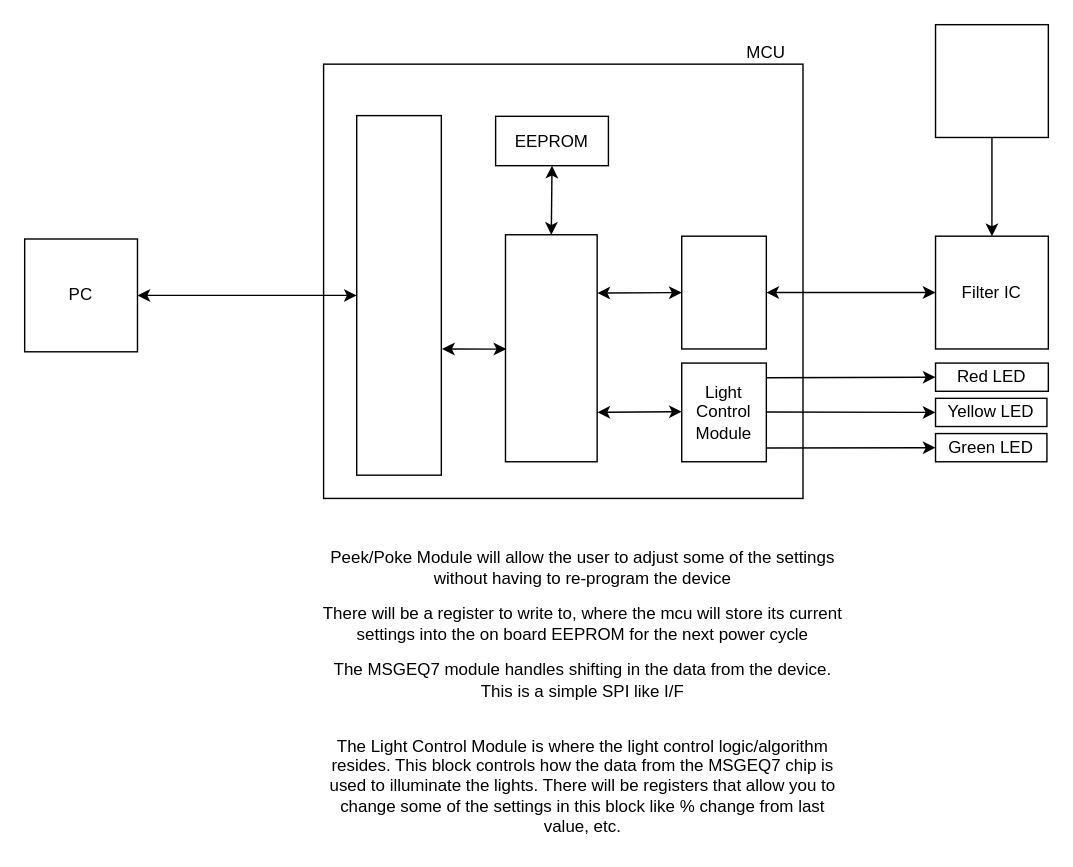
Some shapes in this 1073 by 867 pixel diagram are drawn without their labels. Each missing label, with the centre of its shape:
"MIC" belongs at (x=991, y=80).
"MSGEQ7 Module" belongs at (x=723, y=292).
"PC Peek/Poke Module" belongs at (x=398, y=294).
"R/W Registers" belongs at (x=550, y=347).
